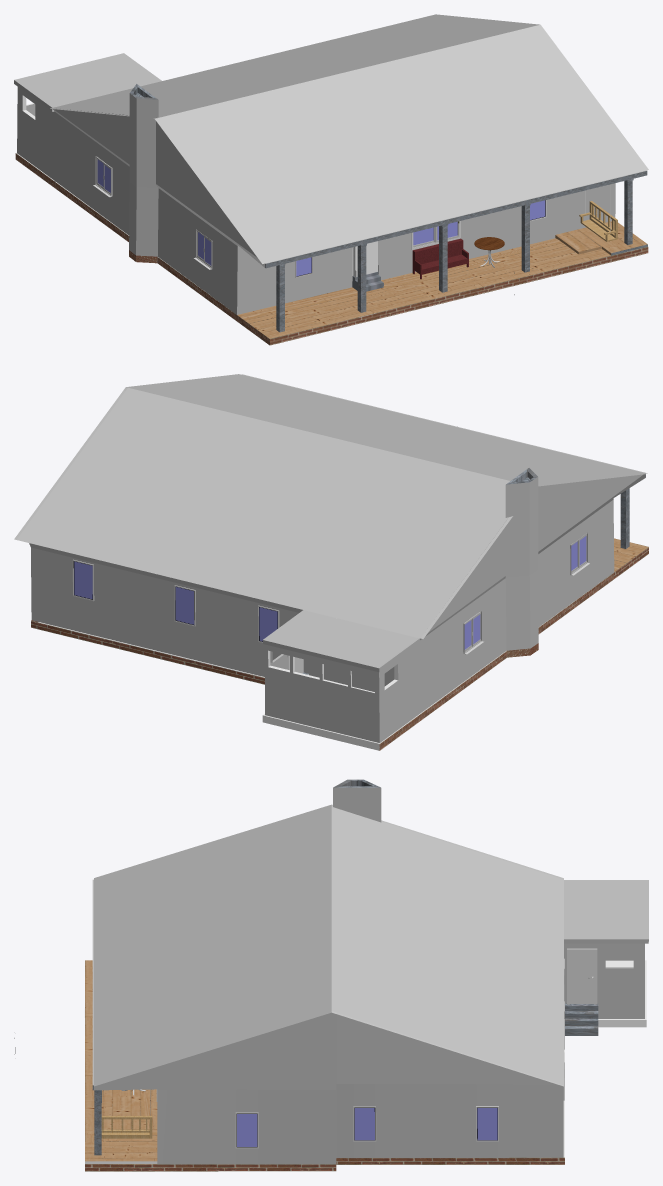
The model's file is Will Byer's House.fbx.
3 renders of one model, top to bottom at view 1: azimuth 30°, elevation 25°; view 2: azimuth 150°, elevation 25°; view 3: azimuth 270°, elevation 25°, orthographic. The views are drawn at different scales.
Parts seen in each view (by area): view 1: Cube, Cube.002, Cube.003, CTRL_Hole; view 2: Cube, Window.006, Window.004, Window.007; view 3: Cube, Door.001, Cube.003, Window.002, Window.003, Window.005.
Part boxes in pixels (x1,y1,x2,y2): Cube: (14, 14, 648, 345); Cube.002: (412, 238, 468, 279); Cube.003: (579, 184, 617, 241); CTRL_Hole: (353, 241, 377, 276); Cube: (14, 374, 648, 750); Window.006: (174, 585, 195, 626); Window.004: (72, 559, 94, 601); Window.007: (258, 605, 279, 642); Cube: (84, 779, 648, 1171); Door.001: (570, 952, 594, 1003); Cube.003: (101, 1090, 152, 1138); Window.002: (235, 1112, 258, 1148); Window.003: (353, 1106, 376, 1141); Window.005: (476, 1106, 498, 1141).
Size of the model in its own units: 2143 by 841 by 2681.
